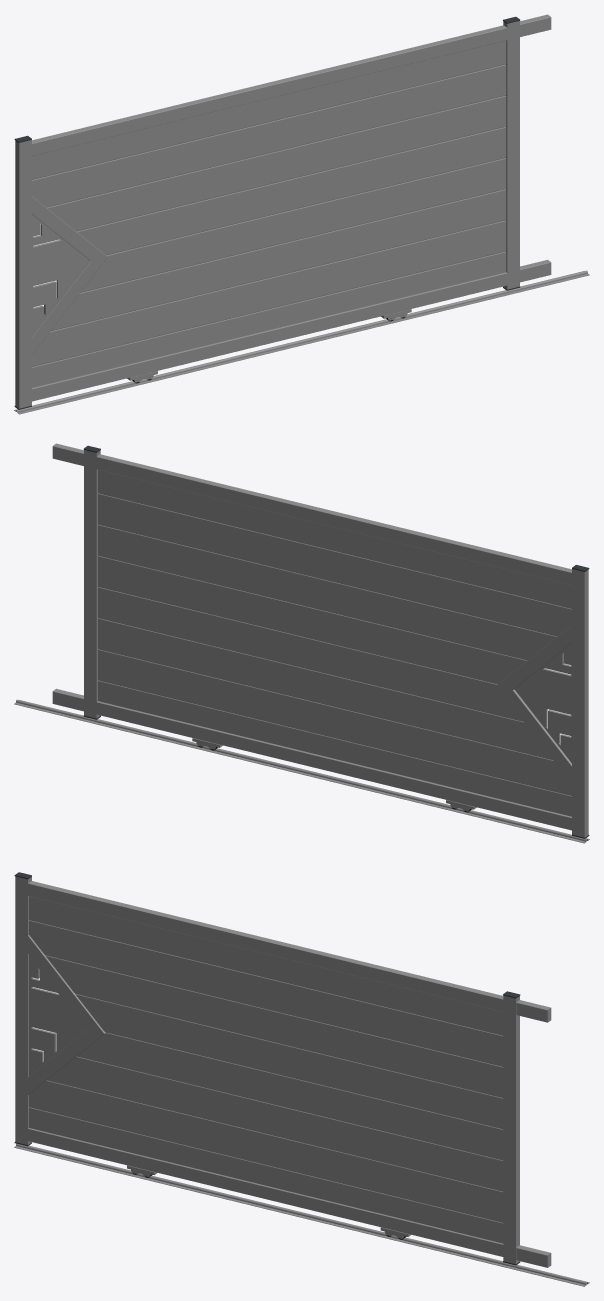
3 renders of one model, top to bottom at view 1: azimuth 30°, elevation 25°; view 2: azimuth 150°, elevation 25°; view 3: azimuth 330°, elevation 25°, orthographic.
Visible parts, largest first — view 1: Shape107412932, Shape107412931, Shape107412933, Pilar, Pilar001, chip001, Rail, Line033; view 2: Shape107412932, Shape107412931, Shape107412933, Pilar, Pilar001, Rail, chip001, Line033; view 3: Shape107412932, Shape107412931, Shape107412933, Pilar001, Pilar, chip001, Rail, Line033.
Part boxes in pixels (bbox=[...]): Shape107412932: bbox=[32, 40, 506, 387]; Shape107412931: bbox=[32, 14, 551, 156]; Shape107412933: bbox=[32, 259, 551, 401]; Pilar: bbox=[15, 140, 31, 408]; Pilar001: bbox=[503, 21, 519, 289]; chip001: bbox=[32, 214, 89, 334]; Rail: bbox=[14, 270, 589, 414]; Line033: bbox=[32, 196, 107, 354]; Shape107412932: bbox=[98, 469, 571, 816]; Shape107412931: bbox=[52, 443, 571, 585]; Shape107412933: bbox=[52, 688, 571, 830]; Pilar: bbox=[572, 569, 588, 837]; Pilar001: bbox=[84, 450, 100, 718]; Rail: bbox=[14, 699, 589, 843]; chip001: bbox=[514, 643, 571, 762]; Line033: bbox=[496, 625, 571, 783]; Shape107412932: bbox=[29, 896, 503, 1243]; Shape107412931: bbox=[28, 881, 551, 1022]; Shape107412933: bbox=[28, 1128, 551, 1267]; Pilar001: bbox=[503, 995, 519, 1264]; Pilar: bbox=[15, 876, 31, 1144]; chip001: bbox=[29, 955, 87, 1075]; Rail: bbox=[14, 1143, 589, 1286]; Line033: bbox=[28, 935, 105, 1094].
Size of the model in its own units: 3600 by 1640 by 60.02.
5 materials, 2 textured.
